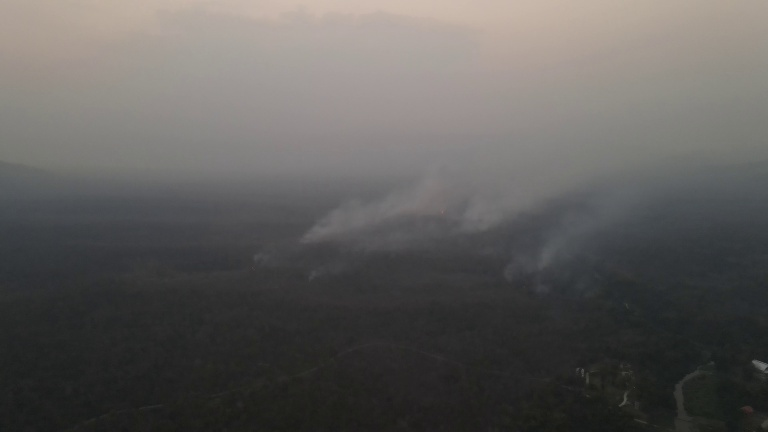fire: (437, 205, 447, 219)
smoke: (289, 120, 605, 291)
